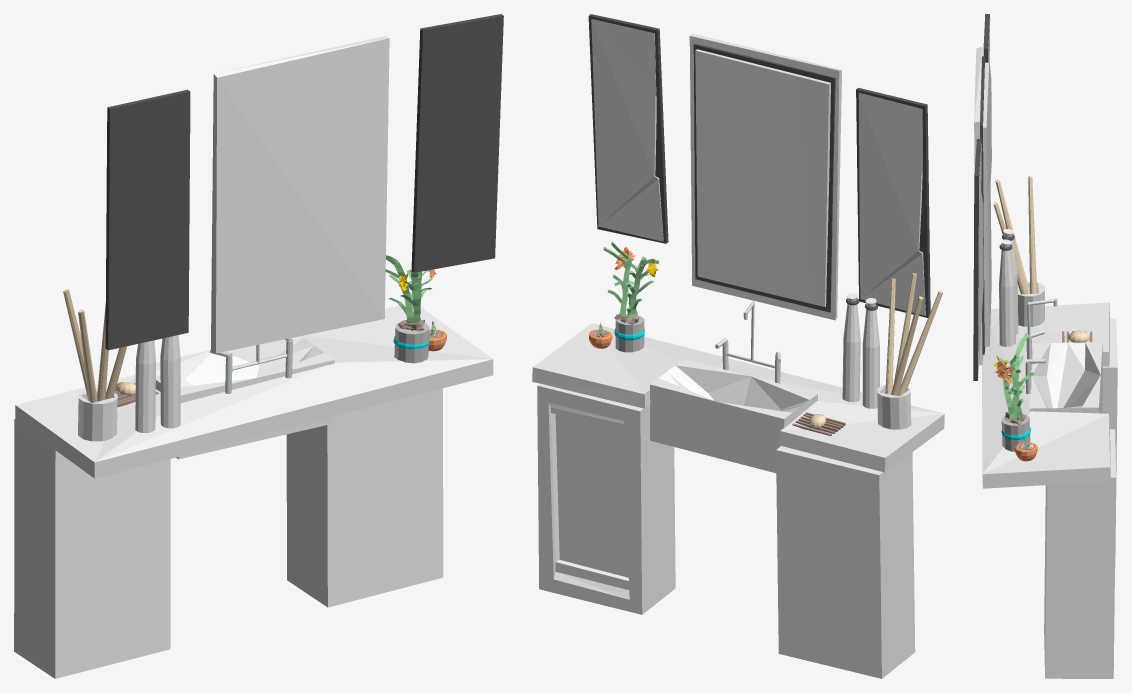
The model's file is sink01.gltf.
3 views of the same model, side by side, from view 1: azimuth 30°, elevation 25°; view 2: azimuth 150°, elevation 25°; view 3: azimuth 270°, elevation 25° (orthographic). The views are drawn at different scales.
Parts seen in each view (by area): view 1: group15461534, group1575744091, group263665574, group1018056280, group610183896, group991233197, group340643401, group648614096, group1195470410, group1093224649, group1839963629, group116327191; view 2: group792461075, group1575744091, group263665574, group1018056280, group189638433, group2107955321, group340643401, group15461534, group852497830, group610183896, group991233197, group648614096 (+6 smaller); view 3: group263665574, group1018056280, group340643401, group792461075, group648614096, group1575744091, group610183896, group189638433, group1093224649, group15461534, group852497830, group154175267 (+10 smaller).
Part boxes in pixels (<box>): group15461534: <box>211,36,389,353</box>; group1575744091: <box>14,418,170,678</box>; group263665574: <box>286,388,443,607</box>; group1018056280: <box>15,304,493,478</box>; group610183896: <box>411,14,503,272</box>; group991233197: <box>105,89,190,350</box>; group340643401: <box>155,336,334,459</box>; group648614096: <box>160,335,180,428</box>; group1195470410: <box>135,340,155,432</box>; group1093224649: <box>78,389,117,441</box>; group1839963629: <box>394,322,429,363</box>; group116327191: <box>78,309,97,402</box>; group792461075: <box>695,49,830,306</box>; group1575744091: <box>776,446,915,678</box>; group263665574: <box>537,383,675,614</box>; group1018056280: <box>532,323,944,472</box>; group189638433: <box>591,19,663,241</box>; group2107955321: <box>858,92,925,315</box>; group340643401: <box>650,359,817,472</box>; group15461534: <box>689,33,841,320</box>; group852497830: <box>693,43,835,312</box>; group610183896: <box>588,14,668,243</box>; group991233197: <box>856,87,930,317</box>; group648614096: <box>842,293,860,402</box>; group263665574: <box>1044,429,1115,678</box>; group1018056280: <box>982,302,1110,488</box>; group340643401: <box>1029,342,1102,413</box>; group792461075: <box>983,62,991,346</box>; group648614096: <box>999,239,1015,346</box>; group1575744091: <box>1045,318,1117,567</box>; group610183896: <box>973,139,981,380</box>; group189638433: <box>978,143,983,376</box>; group1093224649: <box>1017,281,1044,326</box>; group15461534: <box>974,47,983,365</box>; group852497830: <box>980,55,985,354</box>; group154175267: <box>1028,176,1037,293</box>.
Size of the model in its own units: 3.39 by 4.74 by 1.18.
